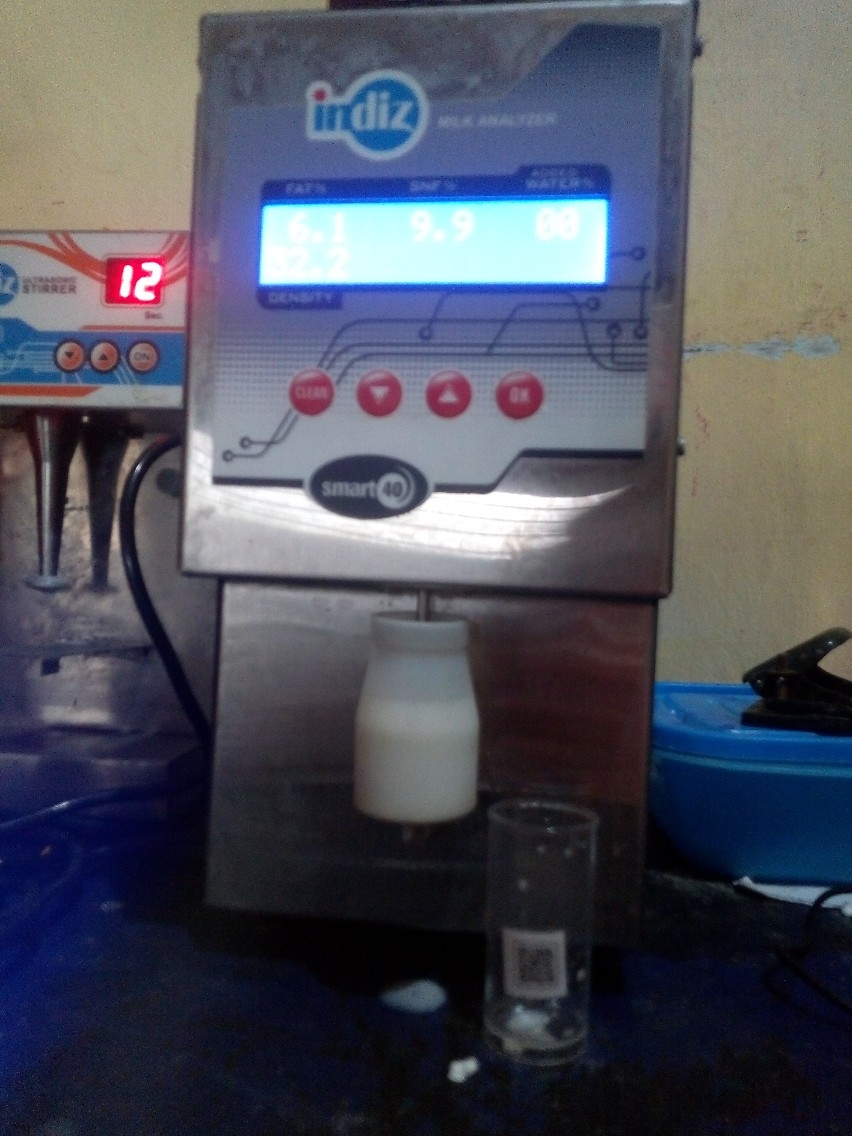lcd: (243, 192, 619, 304)
qr: (493, 925, 579, 1000)
